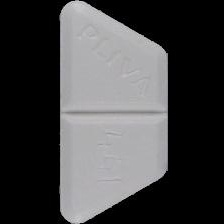49999-913: (0, 0, 224, 224)
